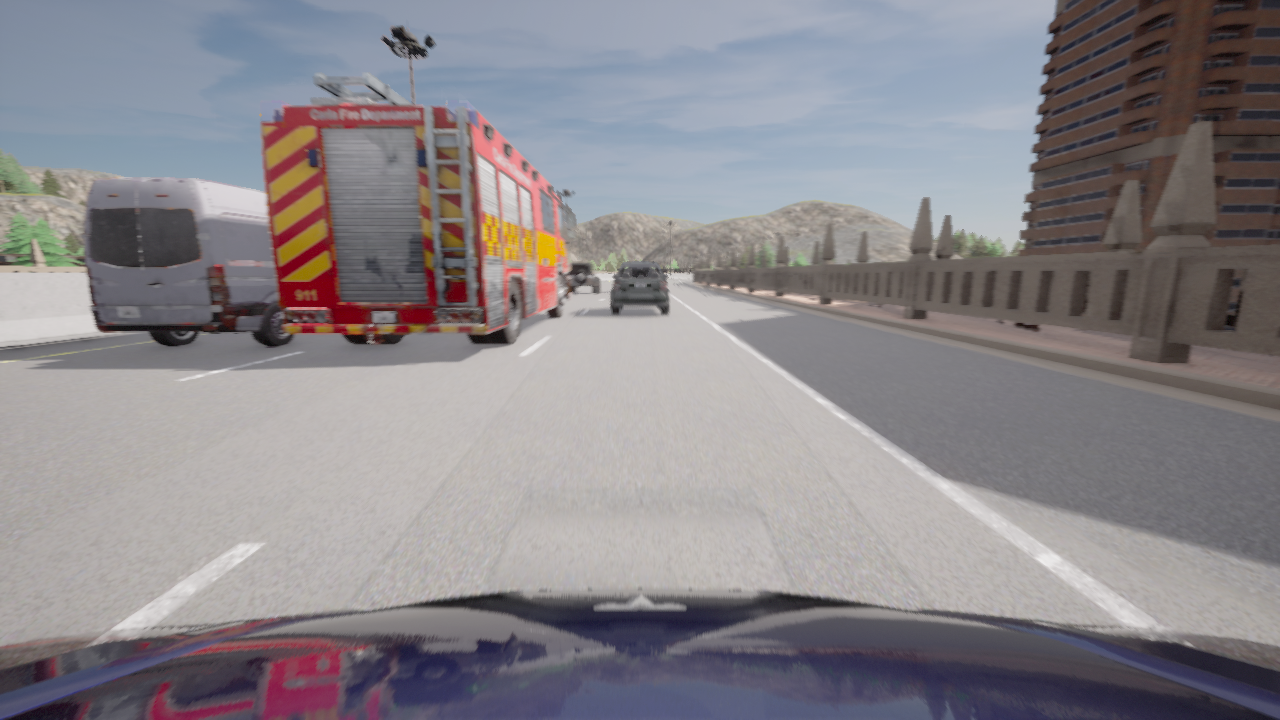cyclist: (0, 588, 1279, 719), (260, 72, 575, 344), (81, 178, 294, 345), (611, 262, 668, 314), (567, 262, 599, 293)
